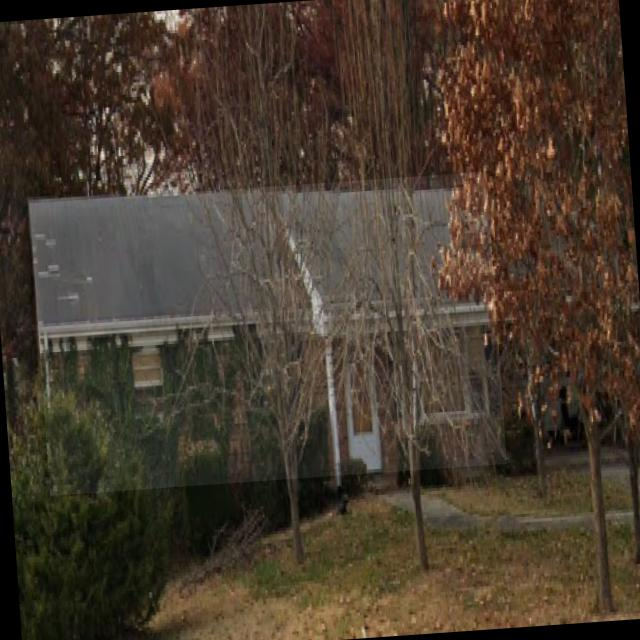House: (30, 171, 507, 495)
